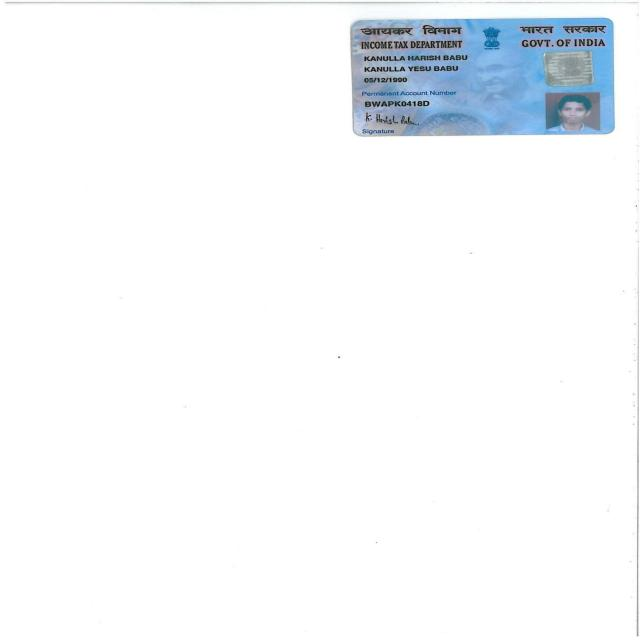pan_card: (352, 19, 613, 135)
